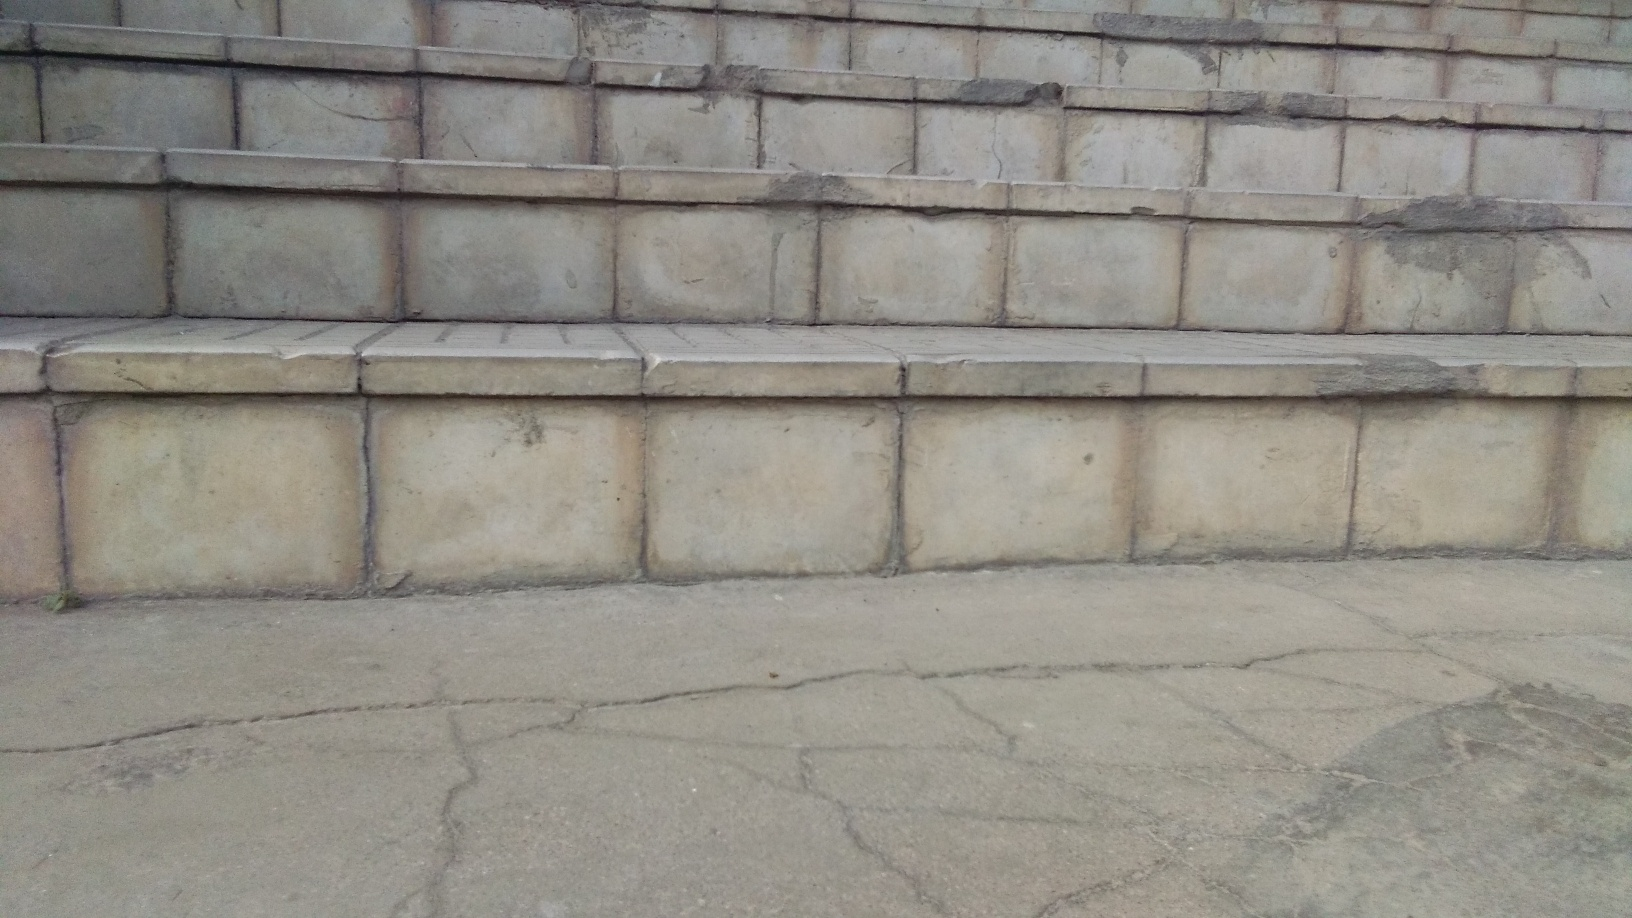stairs_up: (10, 15, 1623, 558)
